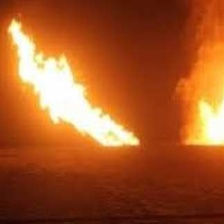fire: (5, 20, 143, 145), (183, 104, 224, 142)
